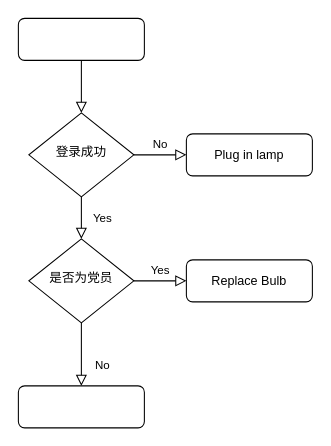
The diagram is 331 pixels wide and 446 high, and some of its shapes have lost their labels. Each missing label, with the centre of its shape:
"Repair Lamp" belongs at (x=80, y=406).
"登录" belongs at (x=80, y=38).
